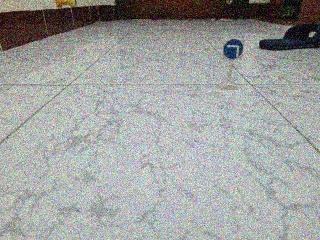left: (219, 31, 252, 64)
